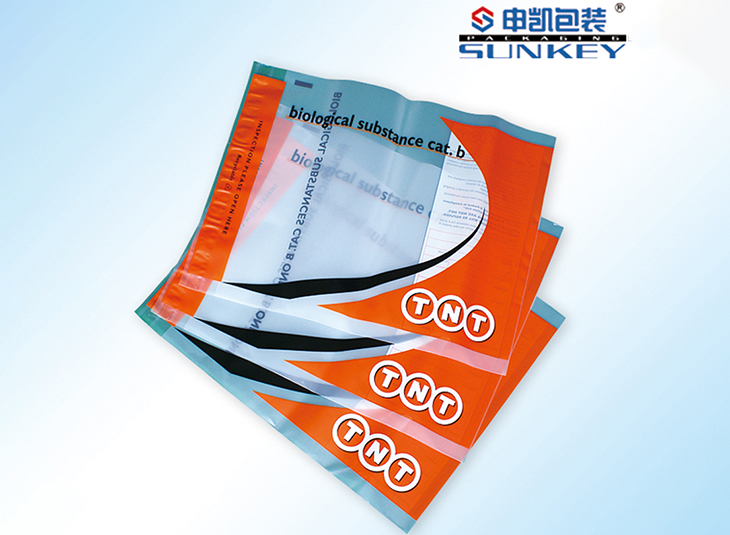塑料袋: (84, 0, 646, 520)
